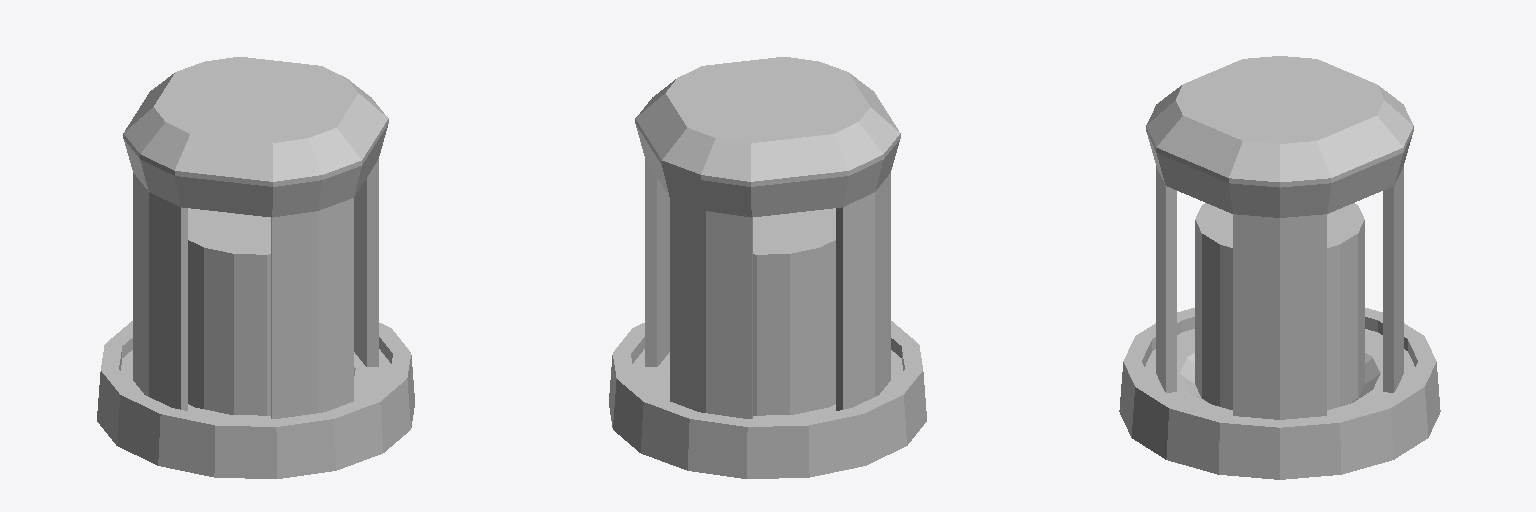
File: Tank_3quarter.obj
3 renders of one model, left to right at view 1: azimuth 30°, elevation 25°; view 2: azimuth 150°, elevation 25°; view 3: azimuth 270°, elevation 25°, orthographic.
Parts seen in each view (by area): view 1: Circle; view 2: Circle; view 3: Circle.
Part boxes in pixels (x1,y1,x2,y2): Circle: (97, 57, 414, 478); Circle: (609, 57, 926, 478); Circle: (1119, 56, 1440, 479).
Bounding box in the file's own units: 1.06 × 1.13 × 1.06.